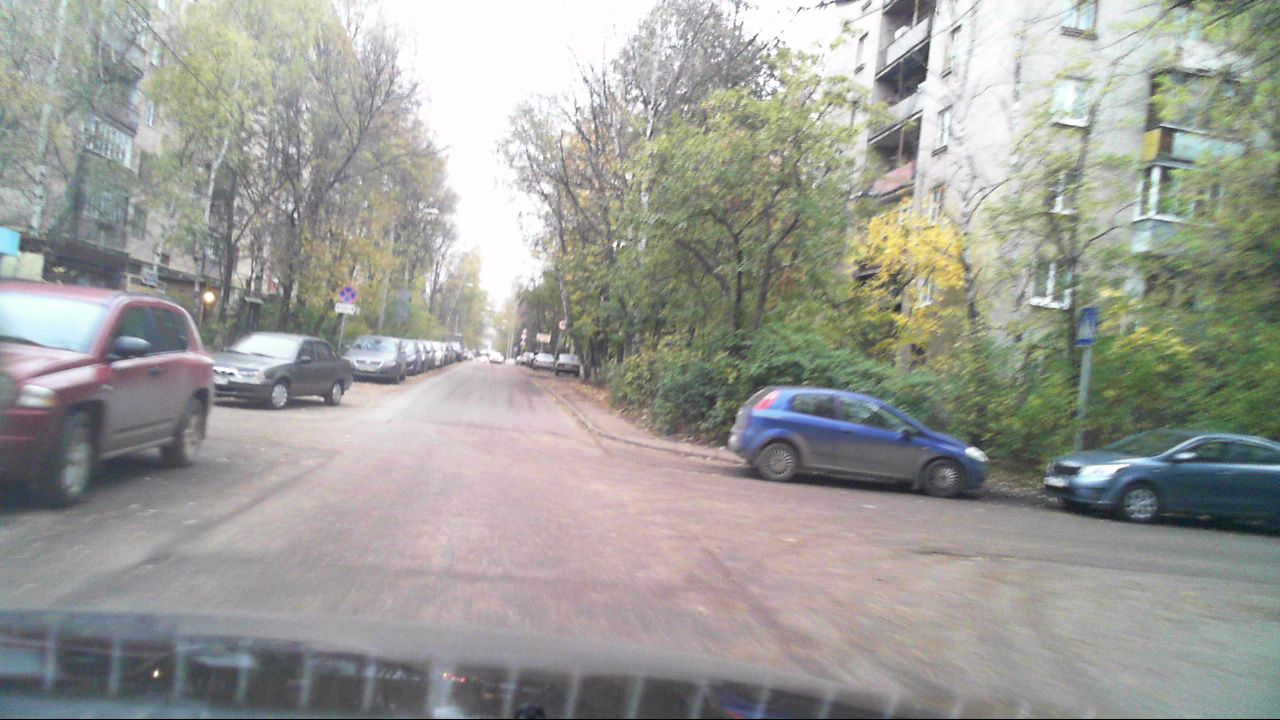No Parking: (338, 285, 356, 302)
